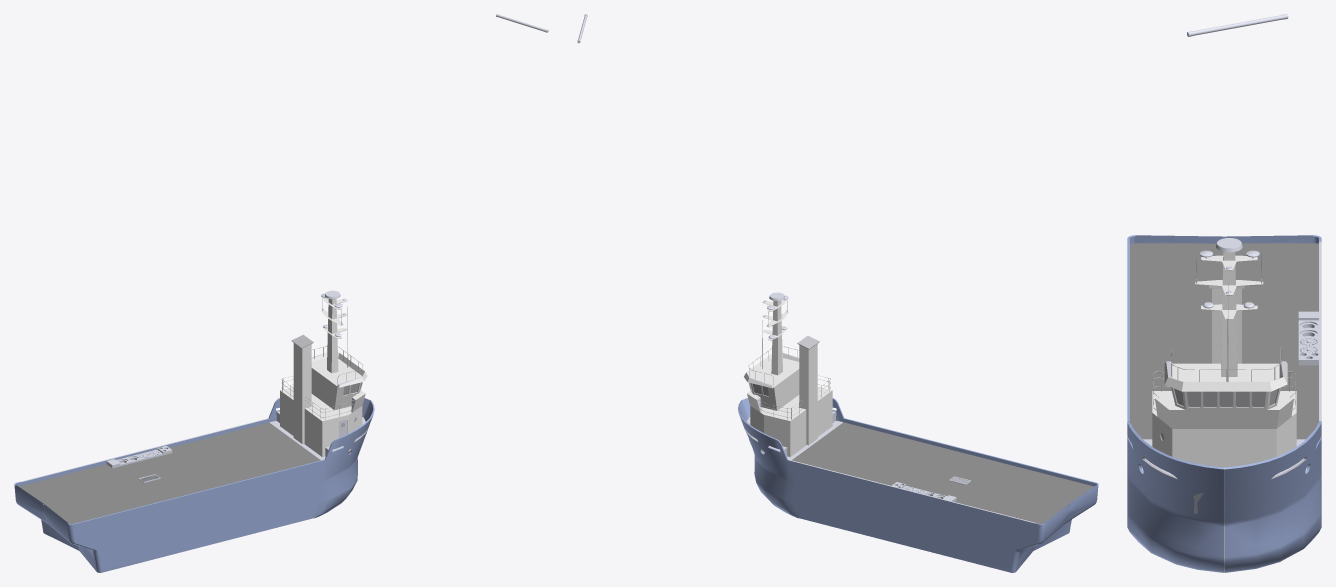
File: new_ship.dae
3 views of the same model, side by side, from view 1: azimuth 30°, elevation 25°; view 2: azimuth 150°, elevation 25°; view 3: azimuth 270°, elevation 25° (orthographic). The views are drawn at different scales.
Parts seen in each view (by area): view 1: ship-1_001, ship_001, ship-3_001, ship-2_001; view 2: ship-1_001, ship_001, ship-3_001, ship-2_001; view 3: ship-1_001, ship_001, ship-3_001, ship-2_001, ship-4_001, ship-5_001, ship-6_001.
Boxes of the visible parts, bbox=[...] form: ship-1_001: bbox=[14, 398, 374, 572]; ship_001: bbox=[19, 422, 320, 523]; ship-3_001: bbox=[280, 297, 367, 456]; ship-2_001: bbox=[21, 290, 371, 504]; ship-1_001: bbox=[738, 398, 1098, 572]; ship_001: bbox=[792, 422, 1093, 523]; ship-3_001: bbox=[744, 299, 832, 456]; ship-2_001: bbox=[741, 292, 1069, 523]; ship-1_001: bbox=[1127, 235, 1321, 572]; ship_001: bbox=[1130, 243, 1318, 439]; ship-3_001: bbox=[1152, 252, 1296, 474]; ship-2_001: bbox=[1143, 237, 1321, 572]; ship-4_001: bbox=[1127, 286, 1321, 479]; ship-5_001: bbox=[1153, 253, 1295, 409]; ship-6_001: bbox=[1187, 14, 1288, 36].
Size of the model in its own units: 21635 by 4310 by 17357.
